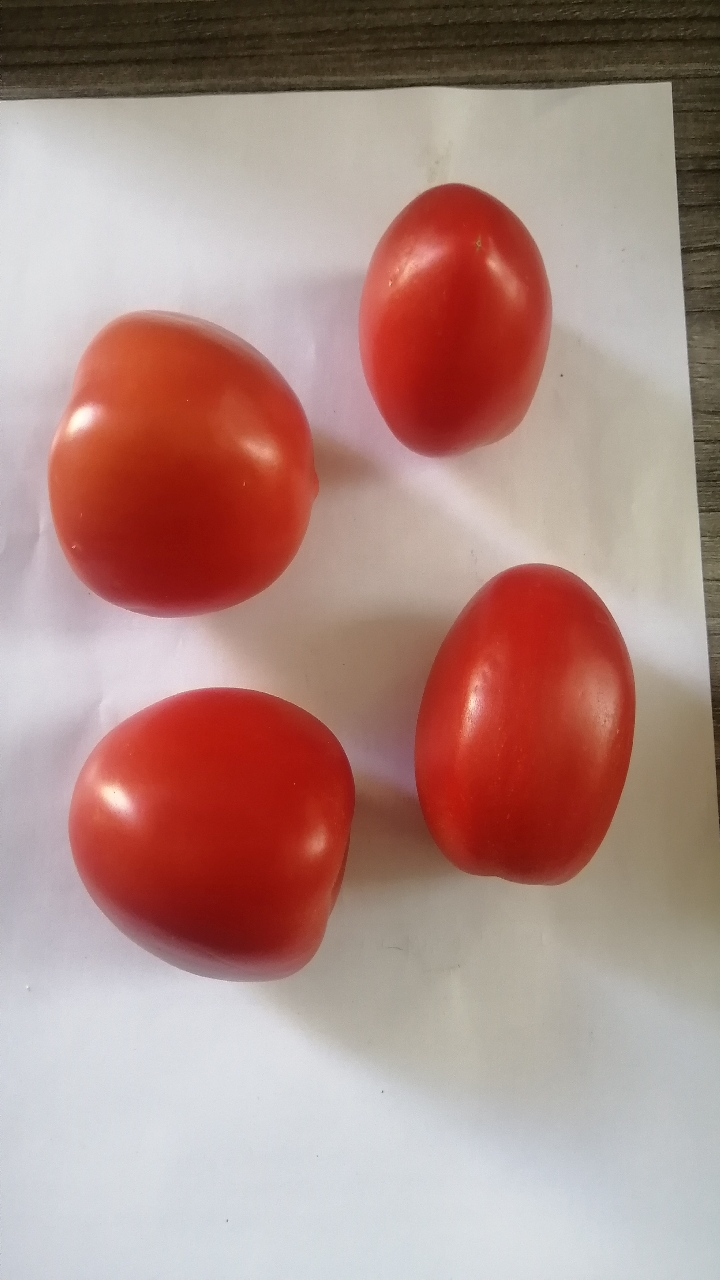tomateRojo: (44, 674, 381, 1020), (28, 295, 337, 652), (401, 529, 661, 929), (334, 152, 564, 492)
